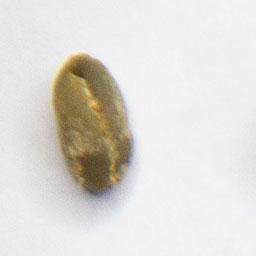peaberry: (50, 48, 138, 198)
